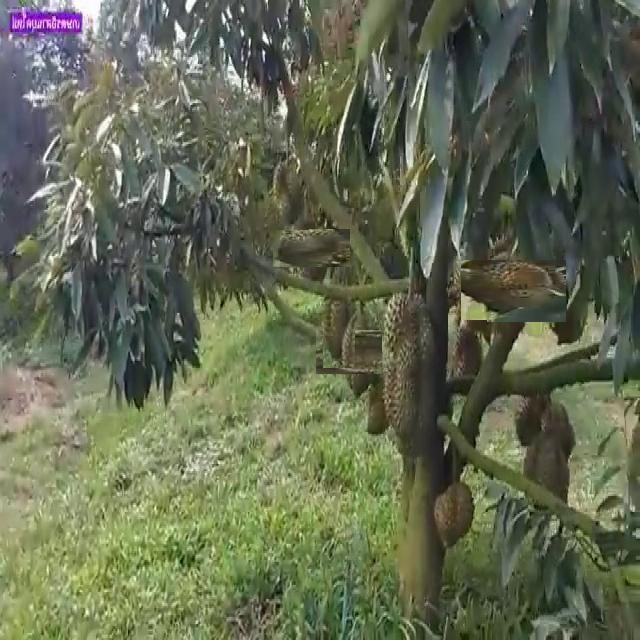durian: (382, 290, 437, 445), (471, 248, 556, 332), (520, 431, 575, 516), (328, 318, 396, 386), (434, 475, 478, 552), (282, 219, 341, 276), (273, 150, 309, 230), (323, 284, 355, 368), (453, 320, 487, 382)
